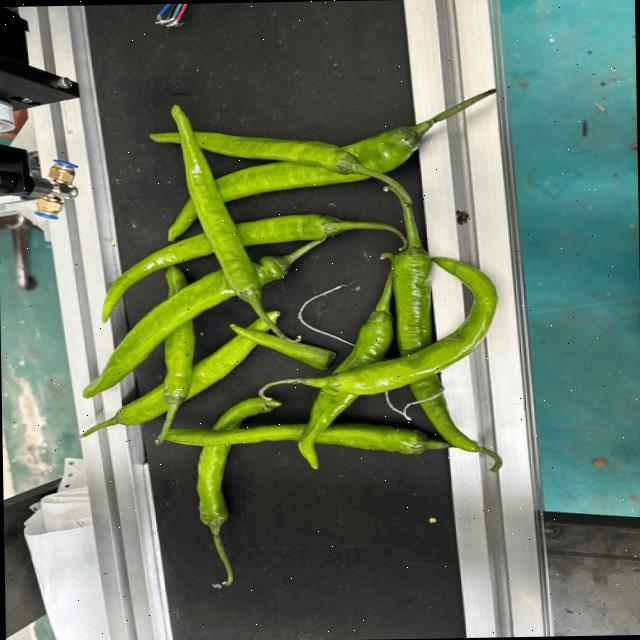chili: (80, 250, 290, 399), (165, 124, 427, 242), (100, 211, 349, 323), (323, 253, 497, 394), (112, 307, 283, 424), (168, 100, 266, 301), (392, 244, 481, 451), (294, 306, 395, 471), (195, 393, 287, 527), (153, 421, 431, 457), (143, 130, 358, 175), (227, 320, 339, 369), (161, 262, 197, 405)
